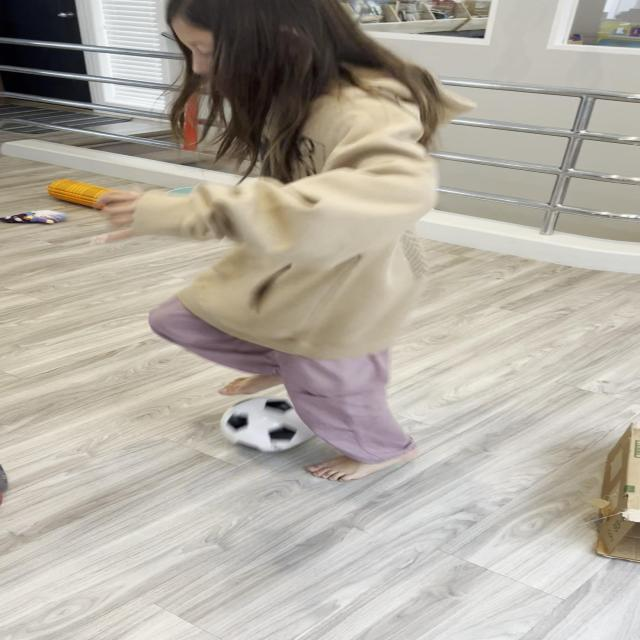Soccer Ball: (221, 397, 319, 453)
